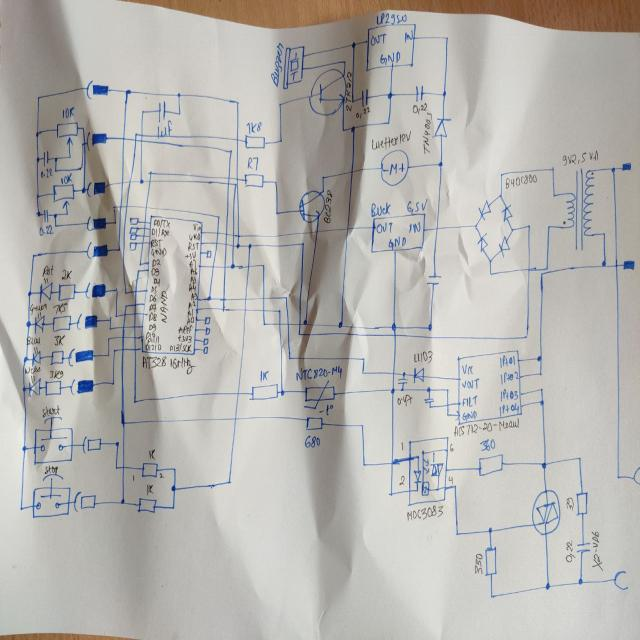capacitor: (576, 537, 590, 555), (360, 86, 370, 108), (157, 99, 167, 121), (425, 274, 442, 285), (414, 84, 424, 102), (42, 146, 50, 166), (396, 378, 408, 386), (422, 397, 434, 403)
crossover: (160, 289, 168, 323), (188, 268, 198, 276), (188, 283, 195, 291), (234, 389, 240, 397), (233, 415, 239, 423), (433, 224, 439, 231), (220, 296, 227, 302), (389, 459, 394, 467), (260, 308, 266, 314), (526, 266, 532, 272), (222, 264, 228, 270), (132, 301, 138, 307), (120, 334, 126, 340), (349, 168, 355, 174), (189, 276, 195, 282), (224, 240, 228, 248), (236, 233, 241, 239), (243, 296, 249, 301), (121, 325, 126, 331), (120, 346, 125, 352), (128, 178, 132, 185), (121, 464, 125, 471), (315, 228, 319, 235), (278, 321, 282, 327), (286, 321, 290, 327), (298, 321, 302, 327), (215, 230, 219, 236), (231, 232, 235, 238), (214, 240, 218, 246), (243, 306, 247, 312), (134, 288, 138, 294), (133, 310, 137, 316), (133, 334, 137, 340), (133, 346, 137, 352), (144, 204, 148, 210), (83, 140, 87, 146), (122, 136, 126, 142), (140, 138, 144, 144), (140, 132, 144, 138), (391, 371, 395, 377), (392, 333, 398, 337), (345, 226, 349, 232), (614, 262, 618, 268), (143, 218, 147, 224), (119, 203, 122, 210), (261, 295, 265, 300), (235, 176, 239, 181), (224, 231, 228, 236), (211, 264, 215, 269), (123, 312, 127, 317), (142, 233, 146, 238), (227, 176, 231, 180), (226, 181, 230, 185), (246, 264, 250, 268), (132, 324, 136, 328), (148, 179, 152, 183), (125, 204, 129, 208), (120, 180, 124, 184), (133, 138, 137, 142), (142, 226, 146, 230), (140, 240, 144, 244)
diode: (432, 117, 452, 138), (39, 276, 53, 304), (28, 374, 42, 398), (477, 198, 492, 220), (497, 235, 511, 256), (33, 311, 45, 335), (500, 202, 513, 223), (476, 232, 488, 252), (412, 366, 424, 384), (31, 345, 41, 366)
junction: (386, 90, 394, 100), (389, 322, 397, 332), (599, 259, 607, 268), (119, 418, 127, 427), (540, 460, 547, 469), (427, 322, 433, 332), (544, 581, 550, 591), (538, 398, 544, 408), (52, 154, 59, 162), (124, 87, 130, 96), (536, 353, 542, 362), (21, 443, 27, 452), (350, 124, 356, 133), (337, 320, 343, 329), (577, 577, 583, 586), (112, 286, 119, 293), (170, 484, 176, 492), (486, 526, 492, 534), (226, 477, 232, 485), (545, 222, 551, 230), (227, 146, 233, 154), (206, 294, 212, 302), (278, 388, 284, 396), (35, 209, 41, 217), (340, 125, 346, 133), (302, 318, 308, 326), (132, 398, 138, 406), (80, 186, 86, 194), (441, 90, 447, 98), (537, 370, 543, 378), (229, 262, 235, 269), (175, 91, 181, 98), (385, 119, 391, 126), (286, 354, 292, 361), (277, 137, 283, 144), (489, 592, 495, 599), (610, 165, 616, 172), (272, 178, 278, 185), (350, 41, 356, 48), (234, 98, 240, 105), (300, 240, 306, 247), (276, 307, 282, 314), (234, 242, 240, 249), (360, 355, 366, 362), (220, 306, 226, 313), (52, 212, 58, 219), (34, 130, 40, 137), (425, 386, 431, 393), (22, 355, 28, 362), (341, 59, 347, 66), (438, 160, 443, 168), (35, 192, 40, 200), (390, 387, 395, 395), (26, 290, 32, 296), (119, 498, 125, 504), (576, 455, 582, 461), (246, 242, 252, 248), (30, 252, 36, 258), (122, 302, 128, 308), (111, 347, 117, 353), (260, 262, 266, 268), (138, 178, 144, 184), (359, 422, 364, 429), (551, 191, 556, 198), (114, 439, 119, 446), (601, 230, 606, 237), (452, 482, 457, 489), (388, 490, 393, 497), (19, 504, 23, 512), (488, 256, 492, 264), (524, 332, 528, 340), (112, 204, 116, 212), (35, 155, 39, 163), (22, 384, 26, 392), (170, 504, 175, 510), (615, 473, 620, 479), (454, 530, 459, 536), (261, 320, 266, 326), (488, 270, 493, 276), (444, 387, 450, 392), (67, 153, 72, 159), (526, 222, 530, 229), (320, 173, 324, 180), (36, 93, 40, 100), (361, 368, 365, 375), (216, 213, 220, 220), (445, 411, 449, 418), (107, 315, 111, 322), (296, 329, 300, 336), (26, 320, 30, 327), (172, 466, 176, 472), (550, 165, 554, 171), (444, 34, 448, 40), (361, 461, 365, 467), (140, 108, 144, 114), (498, 192, 502, 198), (177, 110, 181, 116), (283, 294, 287, 300), (114, 464, 118, 470), (148, 169, 152, 175), (136, 268, 140, 274), (474, 223, 478, 229), (510, 226, 514, 232), (278, 101, 282, 107), (113, 218, 117, 224), (116, 246, 120, 252), (54, 222, 58, 228), (78, 164, 82, 170), (54, 167, 58, 173), (402, 371, 406, 377), (274, 210, 278, 216), (538, 386, 542, 392), (110, 380, 115, 384), (108, 326, 112, 331), (540, 271, 544, 276), (499, 172, 503, 177), (106, 352, 110, 357), (65, 211, 69, 216), (81, 125, 85, 130), (134, 131, 138, 136), (400, 387, 404, 392), (138, 260, 142, 265), (545, 266, 549, 270), (106, 337, 110, 341), (114, 314, 118, 318), (124, 290, 128, 294), (234, 182, 236, 188), (81, 140, 83, 146)
resistor: (50, 182, 79, 211), (247, 382, 279, 403), (477, 454, 504, 476), (56, 122, 78, 146), (484, 544, 497, 576), (136, 494, 156, 513), (574, 489, 588, 516), (58, 282, 76, 302), (244, 134, 266, 150), (51, 314, 70, 332), (243, 172, 264, 187), (44, 378, 61, 396), (141, 460, 159, 477), (305, 415, 323, 430), (49, 348, 65, 364), (39, 208, 49, 221)
switch: (32, 416, 74, 466), (30, 473, 70, 519)
terminal: (611, 567, 629, 591), (620, 160, 632, 173), (622, 258, 634, 270), (632, 467, 640, 484)
text: (140, 354, 196, 372), (459, 418, 521, 434), (371, 128, 411, 150), (294, 364, 342, 380), (406, 502, 444, 522), (560, 148, 598, 165), (374, 10, 407, 26), (590, 528, 602, 572), (505, 173, 537, 189), (271, 43, 283, 85), (422, 112, 432, 154), (322, 188, 332, 224), (370, 200, 391, 217), (406, 198, 428, 212), (155, 122, 173, 138), (499, 401, 521, 414), (473, 548, 483, 576), (498, 370, 518, 384), (52, 301, 72, 315), (344, 69, 352, 104), (374, 218, 392, 233), (564, 539, 574, 565), (40, 404, 60, 417), (21, 365, 43, 376), (413, 350, 433, 362), (382, 50, 399, 64), (500, 387, 518, 400), (460, 377, 478, 390), (246, 120, 262, 134), (144, 336, 160, 350), (498, 354, 516, 366), (355, 108, 373, 120), (152, 226, 170, 238), (371, 31, 385, 46), (41, 261, 55, 276), (61, 105, 75, 120), (410, 102, 429, 113), (479, 438, 495, 451), (51, 333, 67, 346), (304, 434, 320, 447), (396, 393, 412, 406), (461, 395, 478, 407), (388, 236, 405, 248), (459, 409, 477, 420), (60, 267, 74, 281), (37, 224, 53, 236), (154, 218, 171, 229), (40, 166, 53, 180), (408, 221, 422, 234), (462, 361, 474, 376), (30, 302, 48, 312), (318, 403, 333, 415), (49, 367, 65, 378), (169, 343, 191, 351), (59, 173, 73, 185), (258, 369, 270, 383), (25, 334, 41, 344), (400, 30, 412, 43), (44, 463, 60, 472), (150, 247, 166, 256), (566, 495, 574, 512), (146, 480, 154, 496), (177, 334, 192, 342), (398, 470, 405, 486), (150, 238, 162, 247), (188, 232, 200, 241), (150, 266, 160, 276), (192, 220, 201, 231), (148, 447, 156, 459), (184, 250, 196, 258), (151, 258, 161, 267), (188, 241, 198, 250), (178, 326, 192, 332), (148, 312, 156, 322), (149, 285, 157, 294), (149, 293, 157, 302), (148, 303, 157, 311), (188, 259, 196, 268), (145, 331, 155, 338), (399, 440, 405, 451), (449, 440, 454, 453), (152, 277, 160, 285), (187, 300, 195, 308), (190, 292, 197, 301), (148, 324, 156, 331), (187, 309, 194, 316), (447, 473, 452, 482), (158, 472, 164, 479), (186, 318, 193, 324), (132, 473, 134, 482)
transformer: (560, 164, 594, 253)
transistor: (307, 68, 347, 116), (298, 189, 324, 223)
